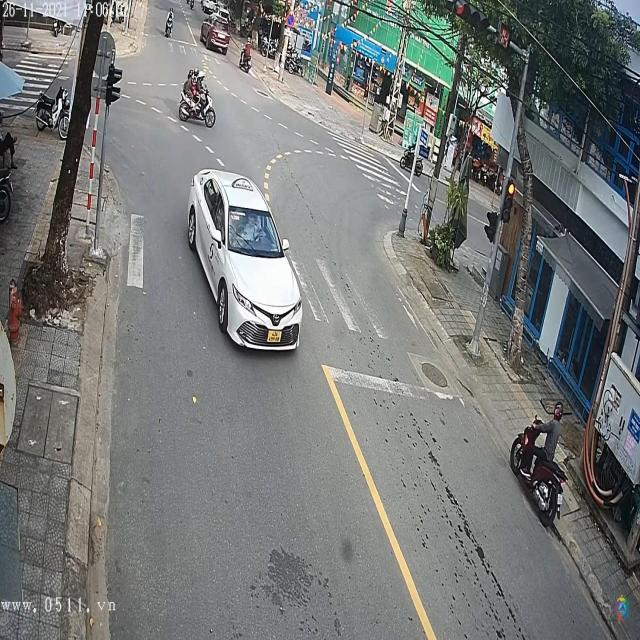car: (185, 169, 302, 355), (201, 22, 233, 54)
motorcycle: (512, 438, 567, 526), (180, 94, 215, 129)
